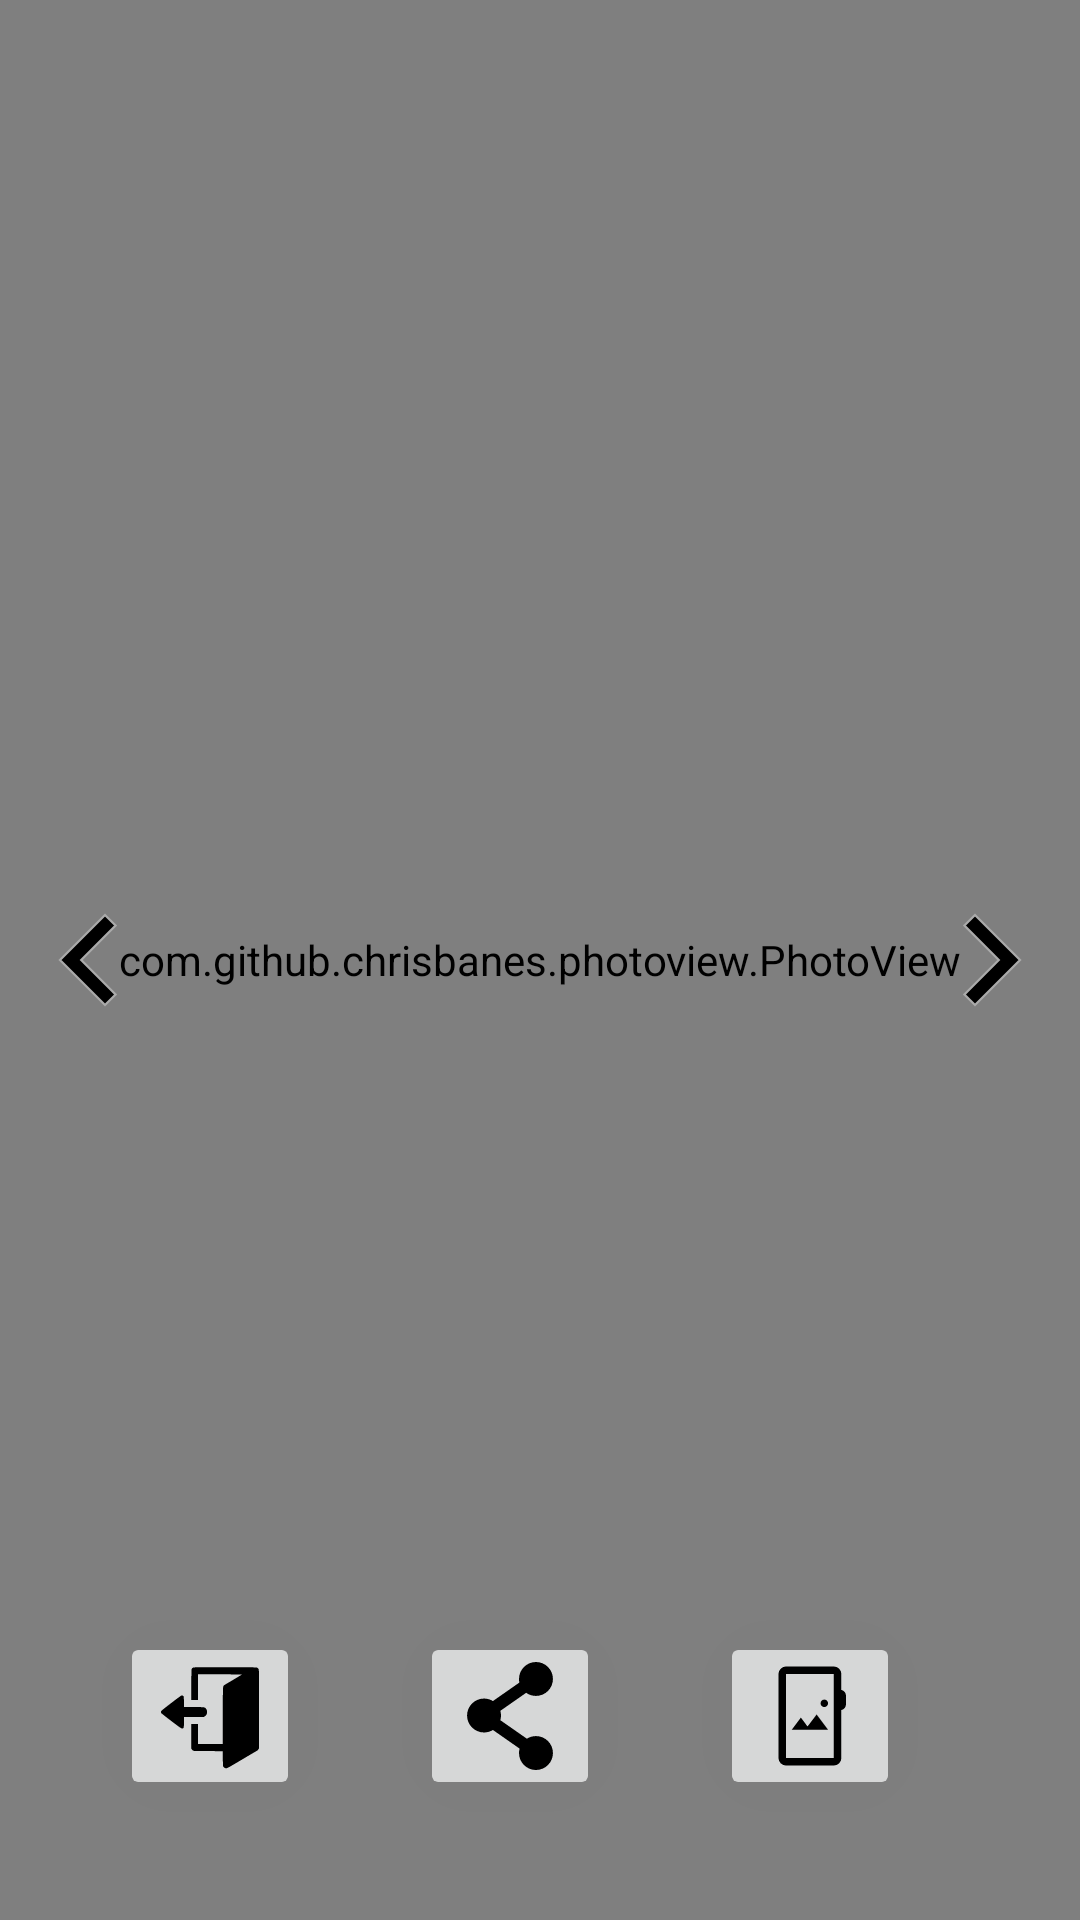

Named icons in this screenshot (1080px x 1920px) and their centers, [x,y]:
share 36p: [510,1716]
